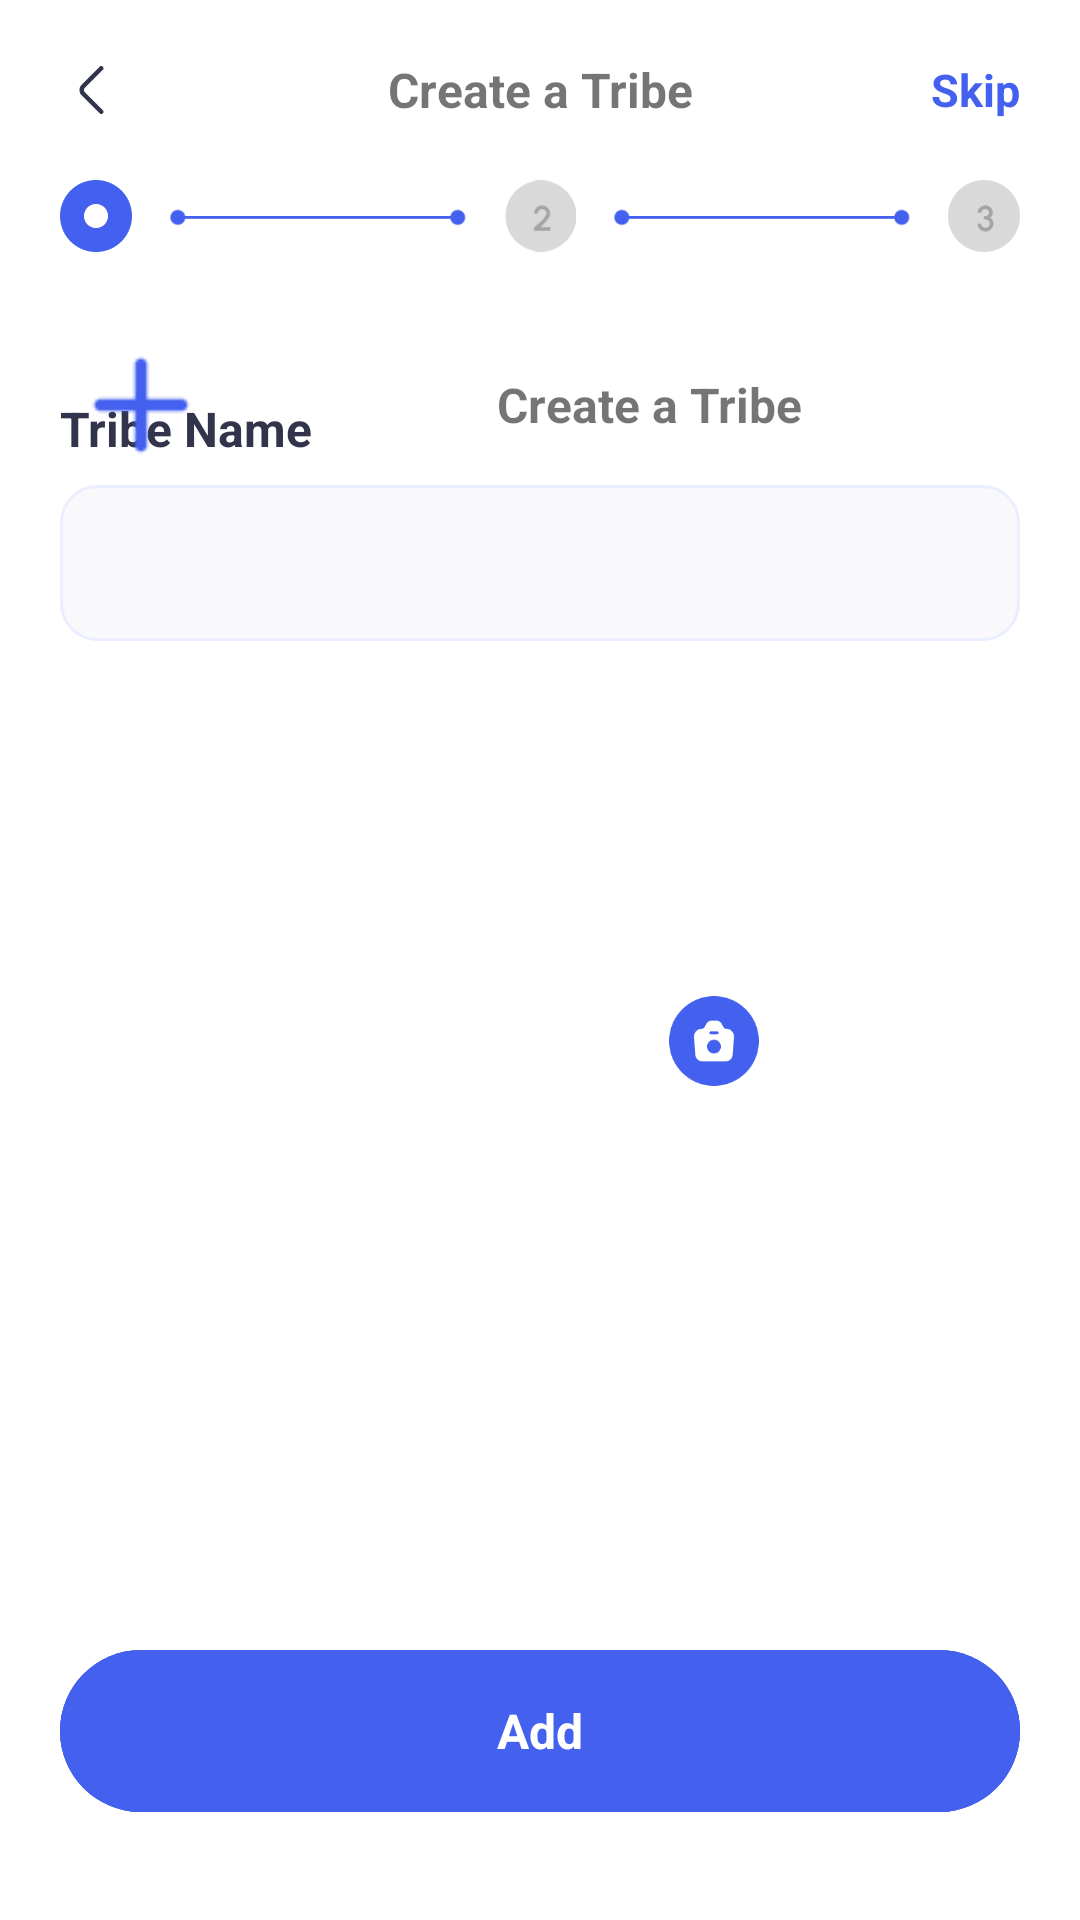

Locate icon controls on the screen. Image size 1080×1920, boxes as (x1, y1, x2, y2).
navigation back: (79, 66, 104, 114)
take photo: (669, 996, 759, 1086)
tribe progress: (60, 180, 132, 252), (506, 180, 576, 252), (948, 180, 1020, 252)
